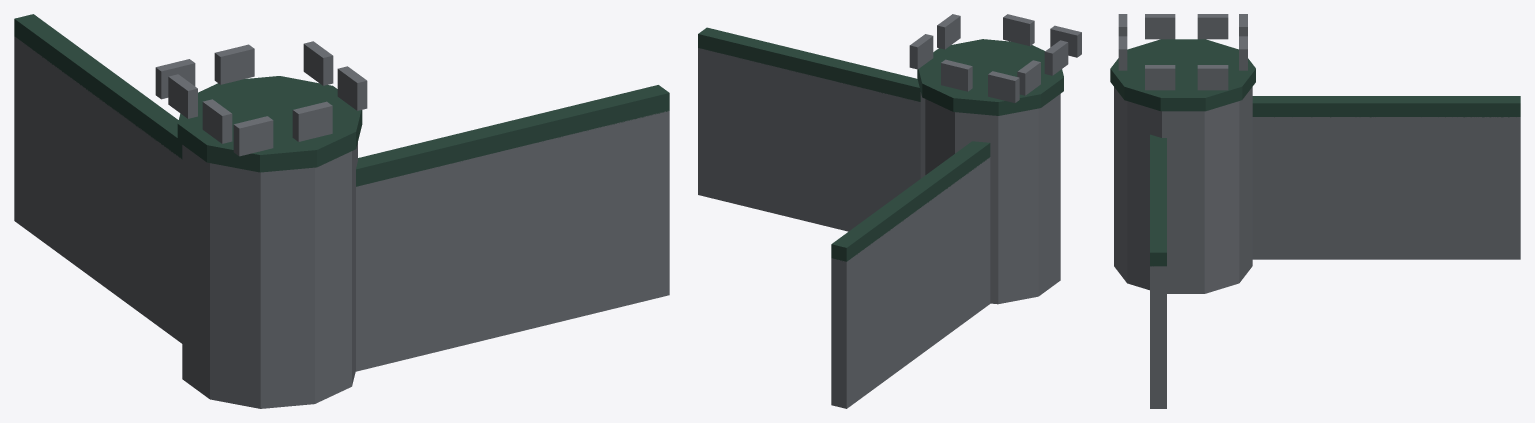
The model's file is WallCorner.fbx.
3 renders of one model, left to right at view 1: azimuth 30°, elevation 25°; view 2: azimuth 150°, elevation 25°; view 3: azimuth 270°, elevation 25°, orthographic. The views are drawn at different scales.
Parts seen in each view (by area): view 1: WallCorner; view 2: WallCorner; view 3: WallCorner.
Boxes of the visible parts, <box> form: WallCorner: <box>14,14,669,408</box>; WallCorner: <box>698,14,1081,408</box>; WallCorner: <box>1110,14,1520,408</box>.
Bounding box in the file's own units: 1231 × 752 × 1241.
Materials: 2 (2 with a texture image).
